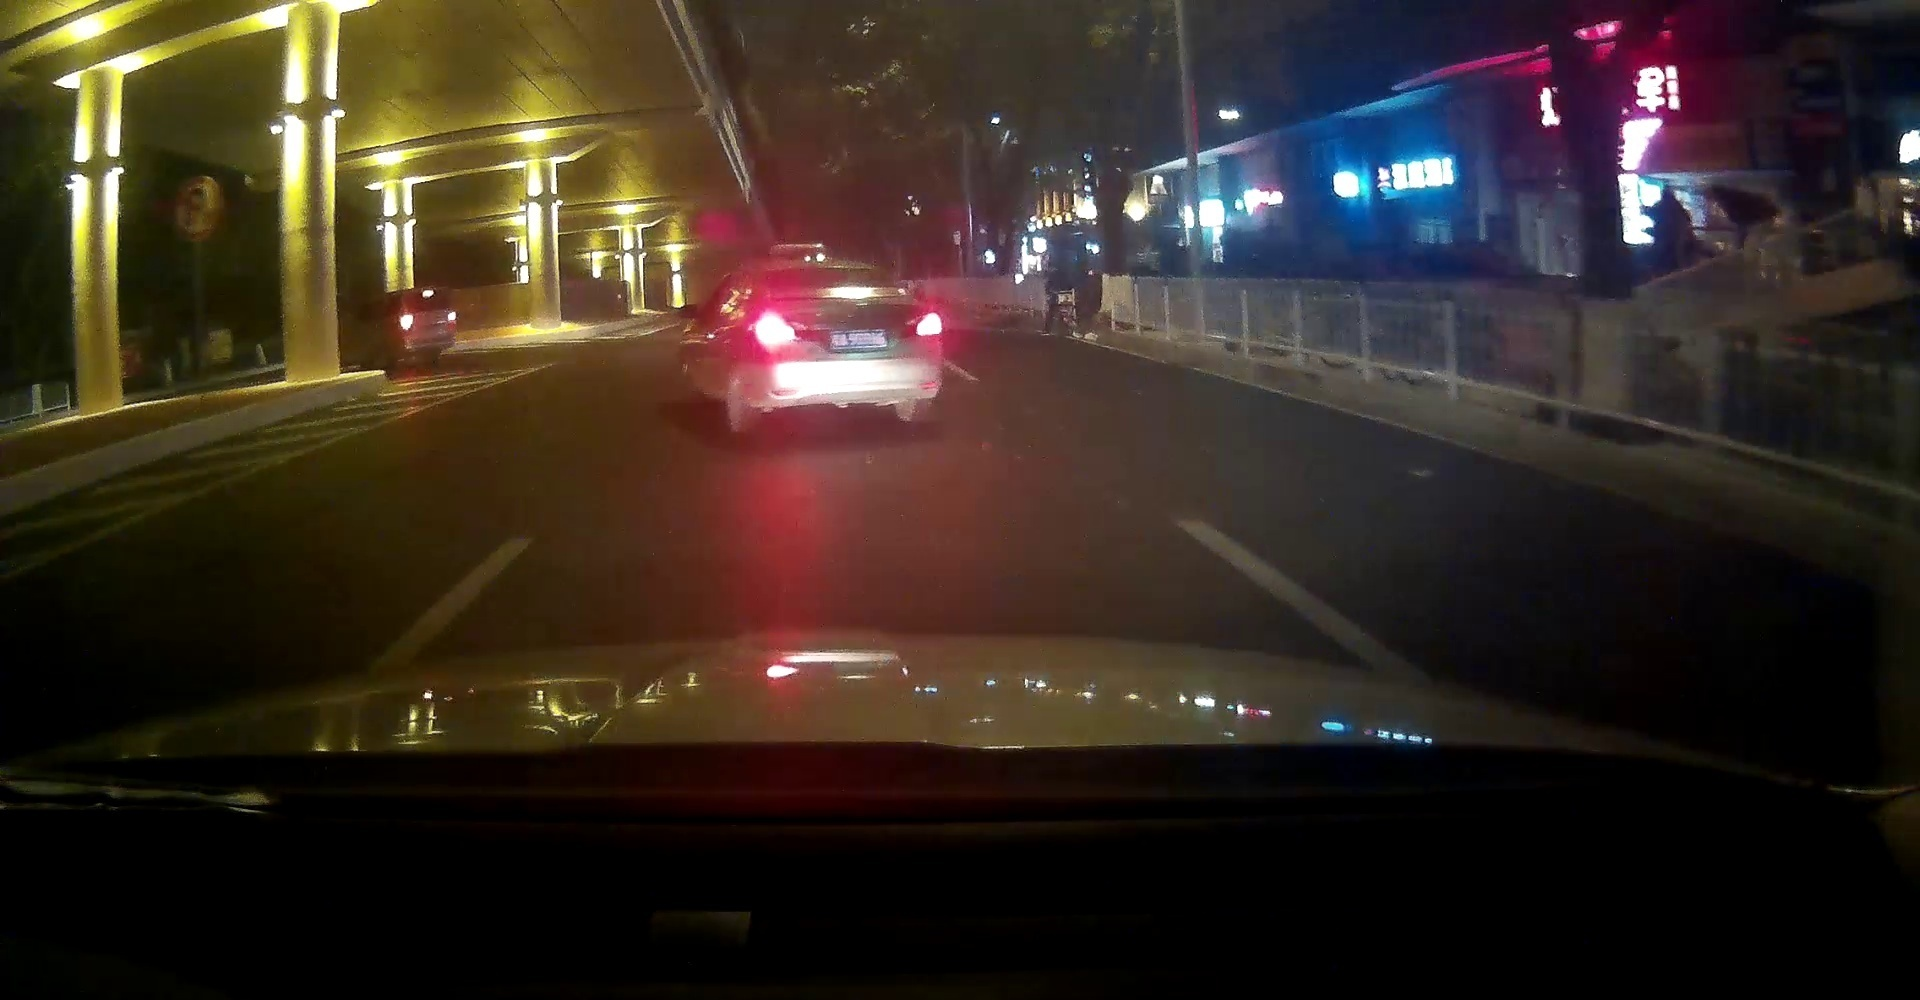L_light: (748, 311, 822, 346), (397, 313, 414, 331)
R_light: (899, 310, 945, 338), (447, 311, 457, 330)
T_light: (820, 266, 850, 274), (422, 289, 436, 299)
night-brake: (394, 286, 457, 365)
night-left: (739, 261, 947, 434)
